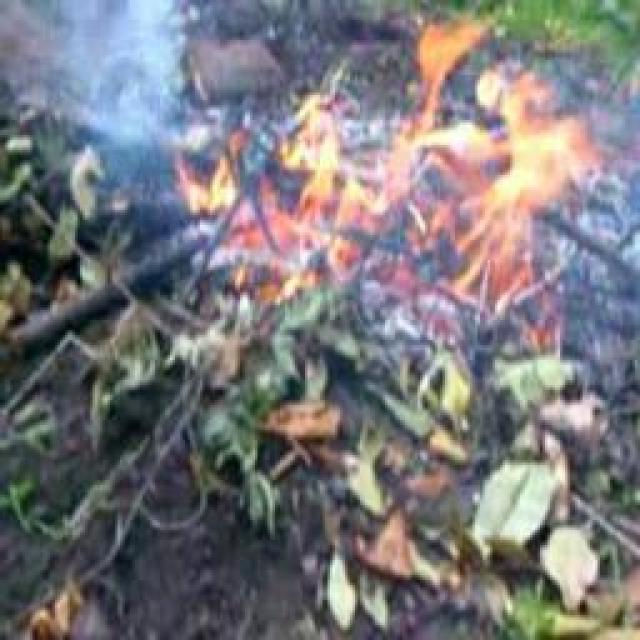Fire: (232, 21, 604, 294)
